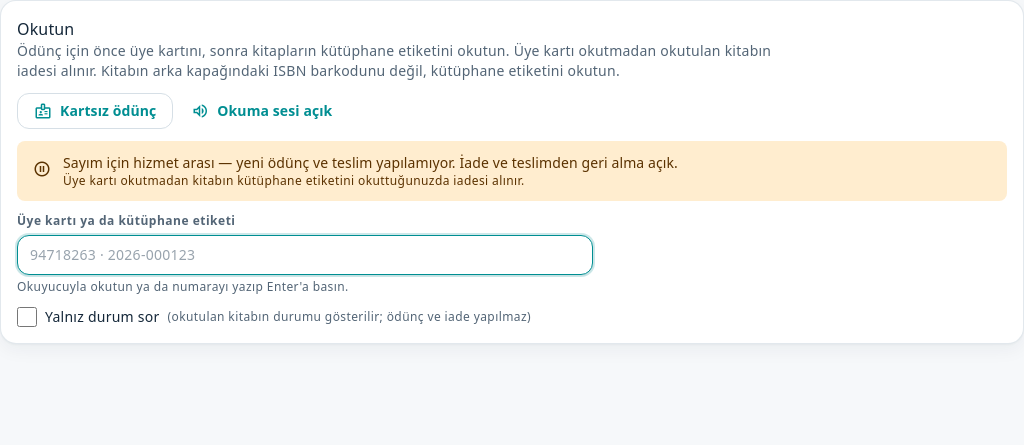
it: Masa — sayım için hizmet arası › yönetici: hizmet arası sürüyorsa şerit AÇILIŞTA görünür (madde 26); iade alınır
Expected: the message "Sayım için hizmet arası" shows "Sayım için hizmet arası — yeni ödünç ve teslim yapılamıyor. İade ve teslimden geri alma açık.", top-left (63, 153), bottom-right (678, 172)
Expected: the message "Sayım için hizmet arası" shows "yeni ödünç ve teslim yapılamıyor", top-left (63, 153), bottom-right (678, 172)
Type "2026000123" into the field labelled "Üye kartı ya da kütüphane etiketi" at [305, 255], box top-left (30, 245), bottom-right (580, 265)
Then press Enter
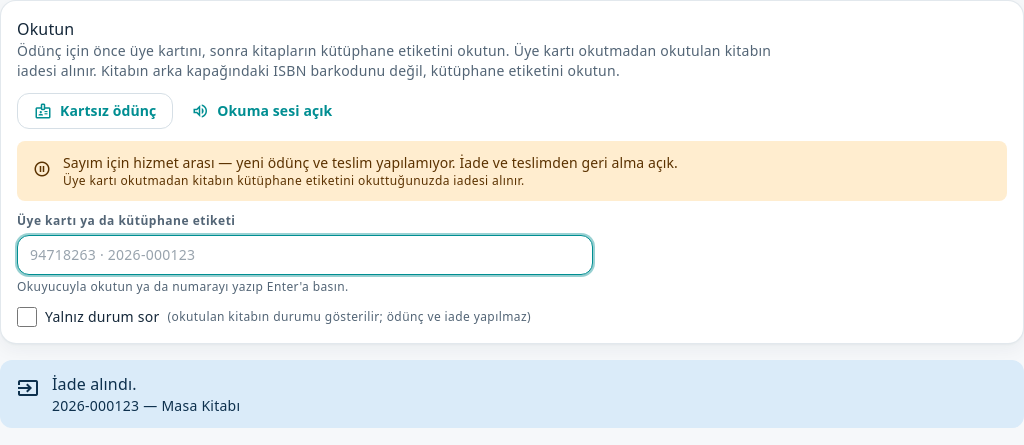
Now the text "İade alındı." is shown, box top-left (52, 373), bottom-right (137, 395)
